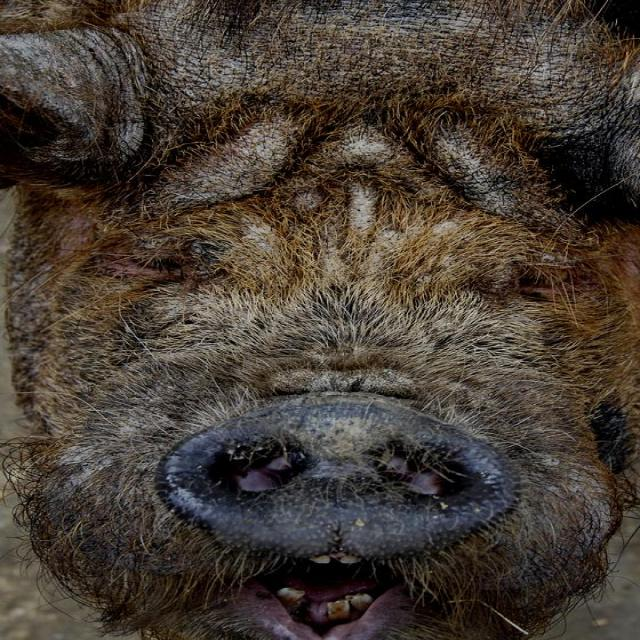pig: (4, 0, 638, 640)
